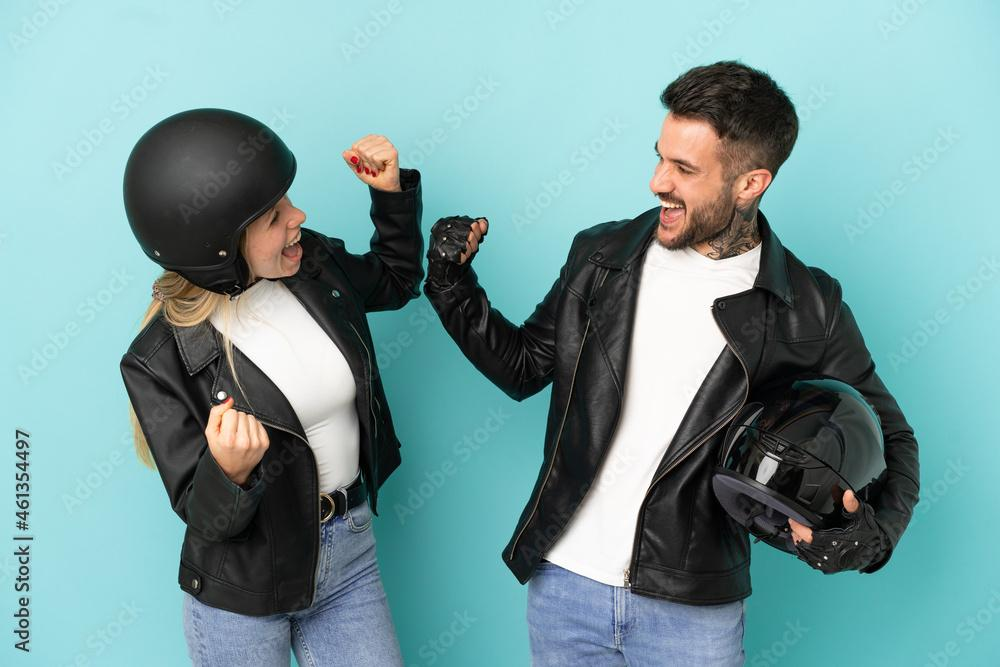helmet: (121, 106, 308, 302), (710, 370, 892, 559)
nohelmet: (648, 59, 800, 252)
